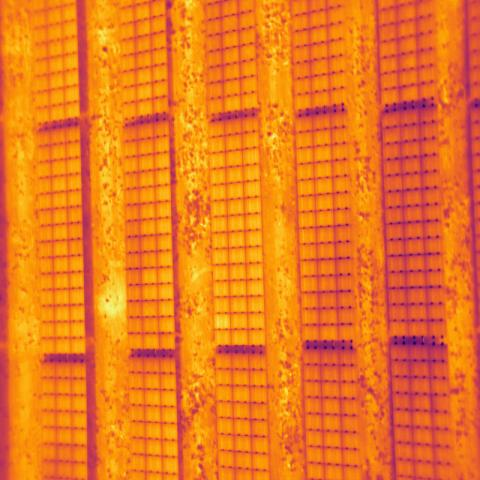fault: (213, 313, 231, 330)
